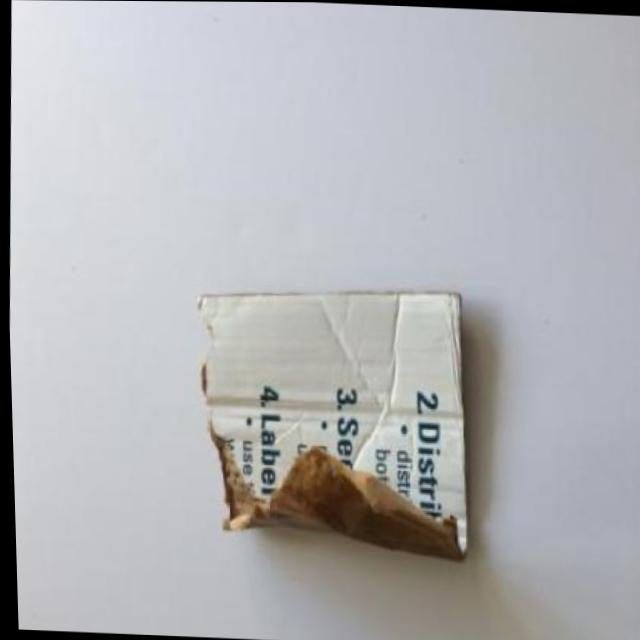box: (183, 265, 490, 594)
